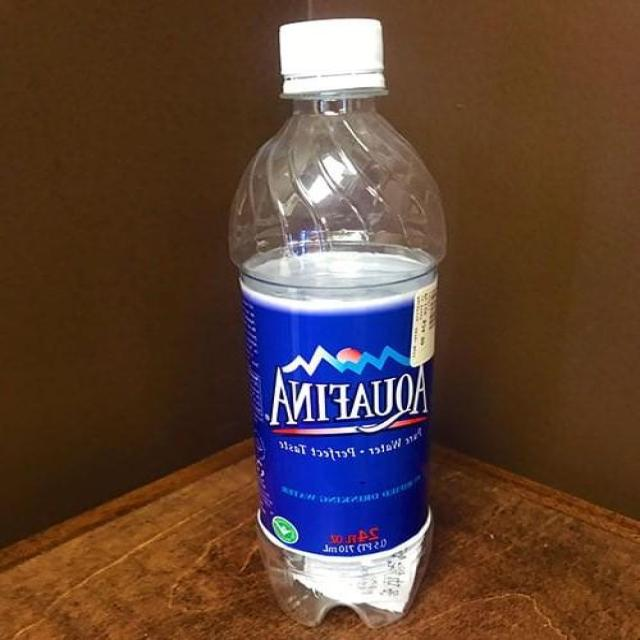bottle: (228, 16, 440, 632)
